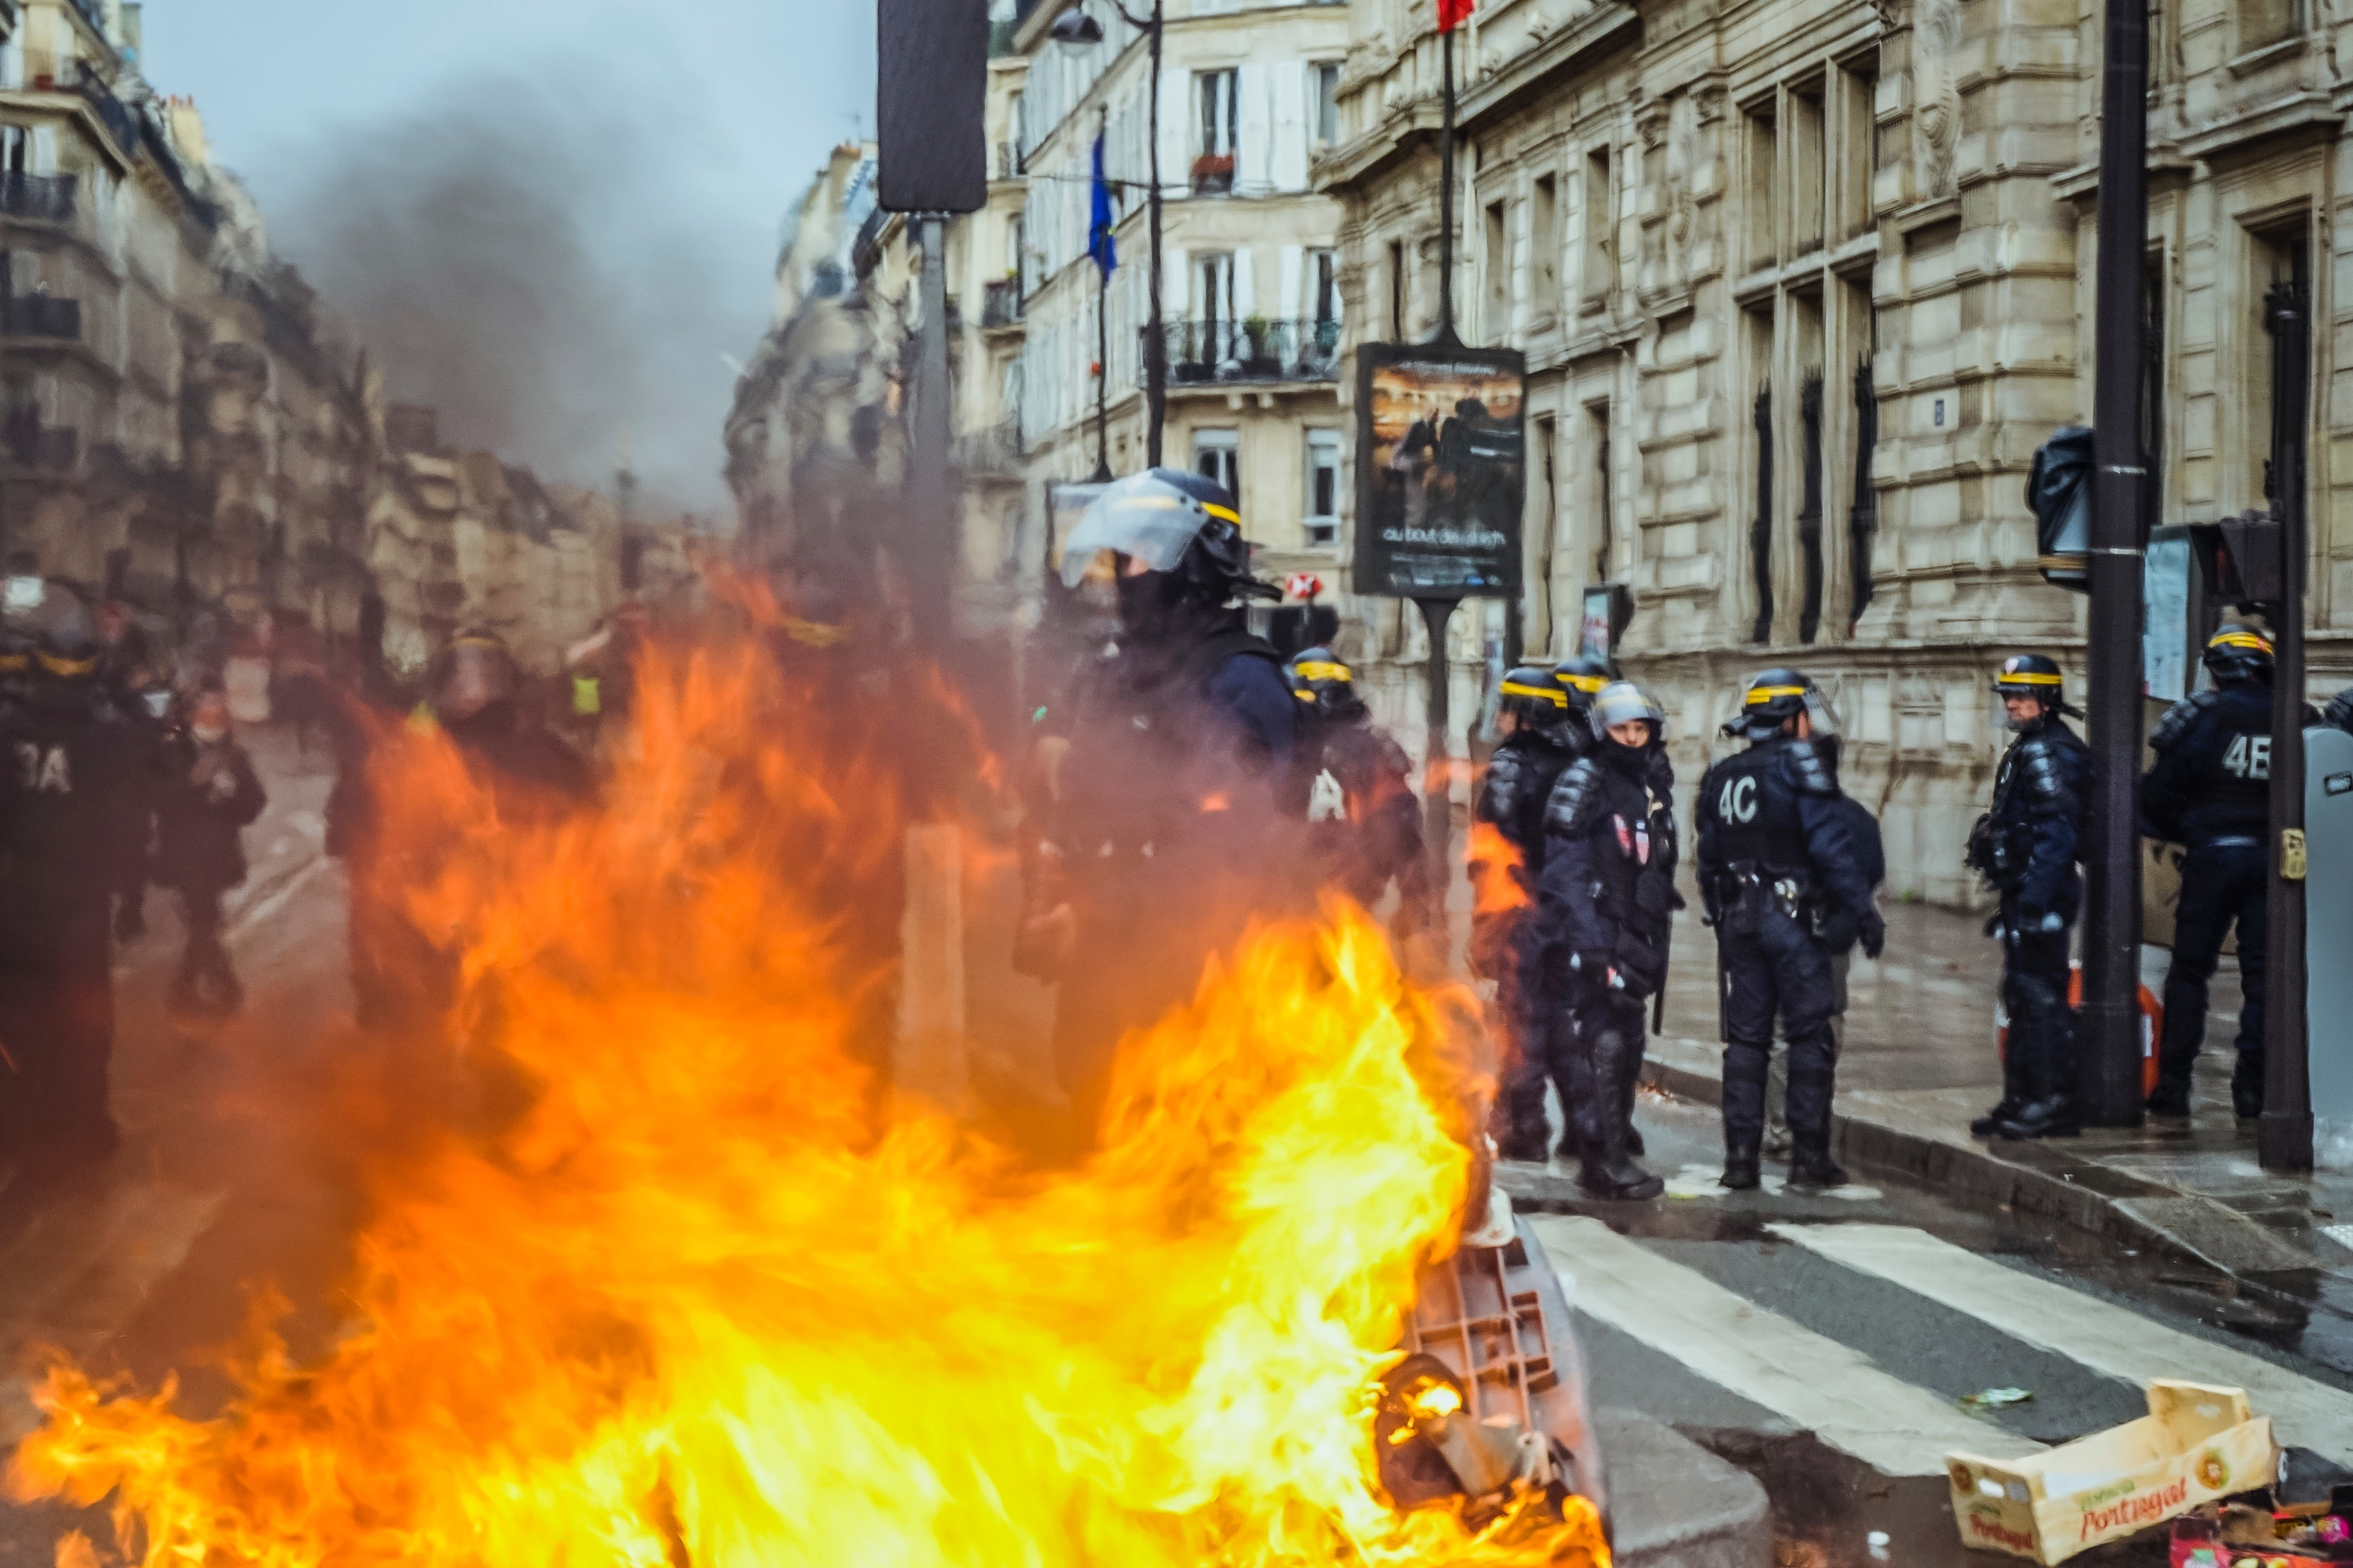fire: (23, 539, 1581, 1568)
